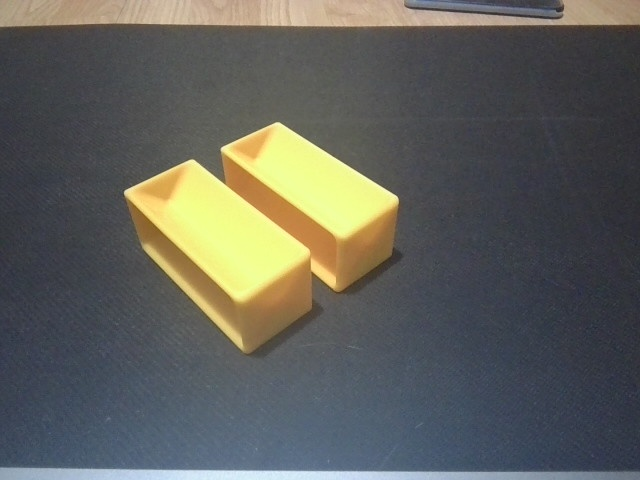YellowSample: (119, 156, 318, 359), (215, 118, 401, 296)
